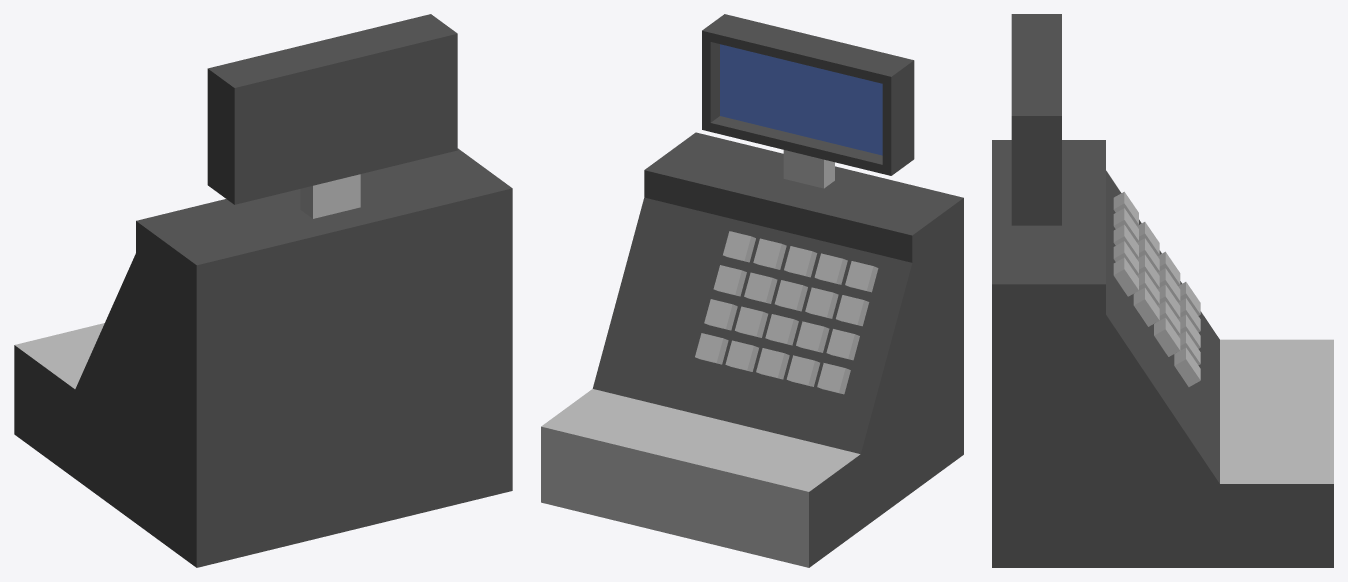
The model's file is register_model.fbx.
The picture shows the model from 3 angles, left to right: view 1: azimuth 30°, elevation 25°; view 2: azimuth 150°, elevation 25°; view 3: azimuth 270°, elevation 25°; orthographic projection. The views are drawn at different scales.
Visible parts, largest first — view 1: Cube; view 2: Cube; view 3: Cube.
Part boxes in pixels (bbox=[...]): Cube: bbox=[14, 14, 512, 567]; Cube: bbox=[541, 14, 963, 567]; Cube: bbox=[992, 14, 1333, 567].
Size of the model in its own units: 488 by 680 by 488.
